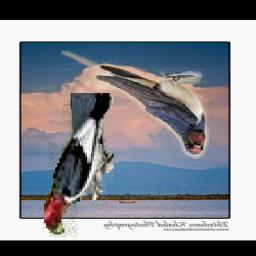Swallow: (61, 52, 209, 159)
Woodpecker: (42, 94, 113, 238)
